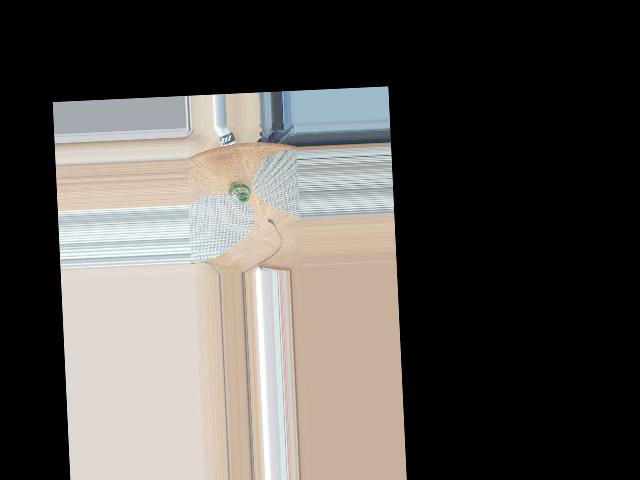beer: (227, 180, 251, 202)
